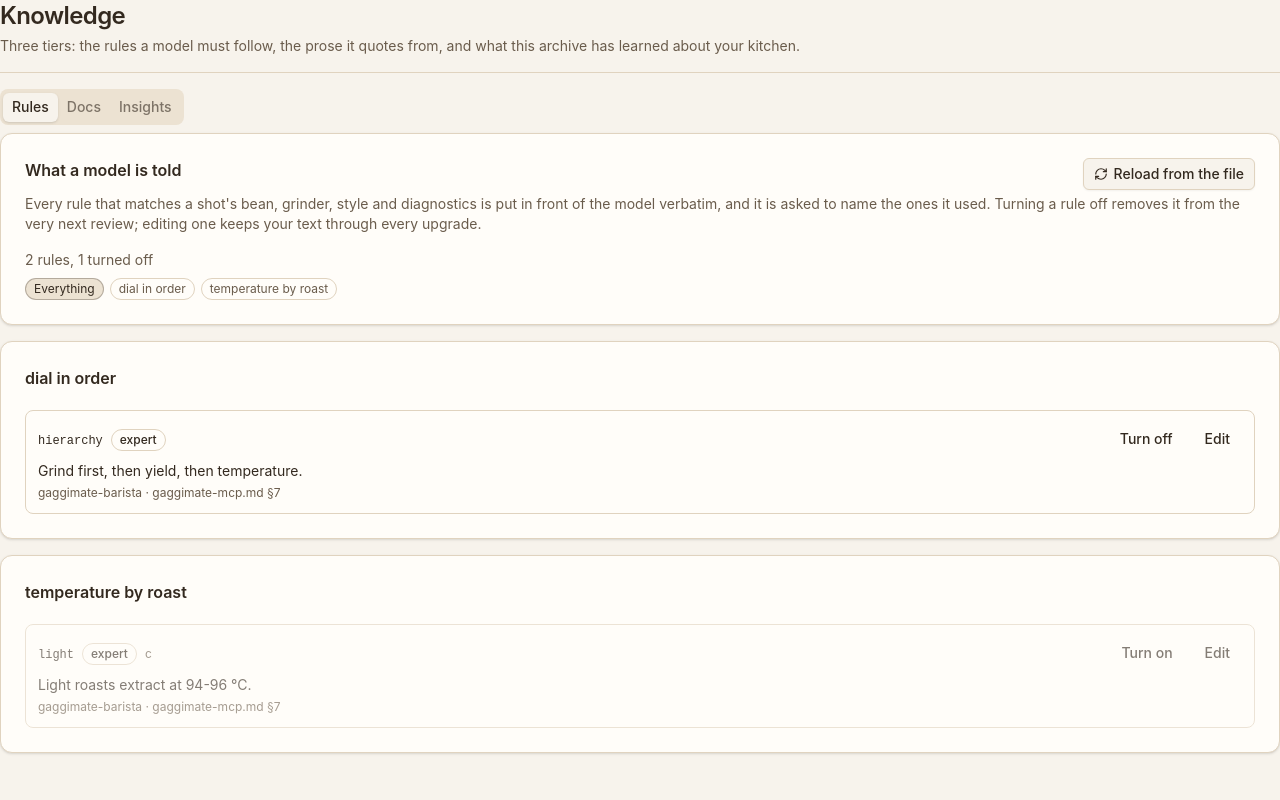
Test: KnowledgePage — the three tiers › switches to the insights
Step 1. Click the tab "Insights" → (145, 107), box [110,92,181,122]
(page scrolled)
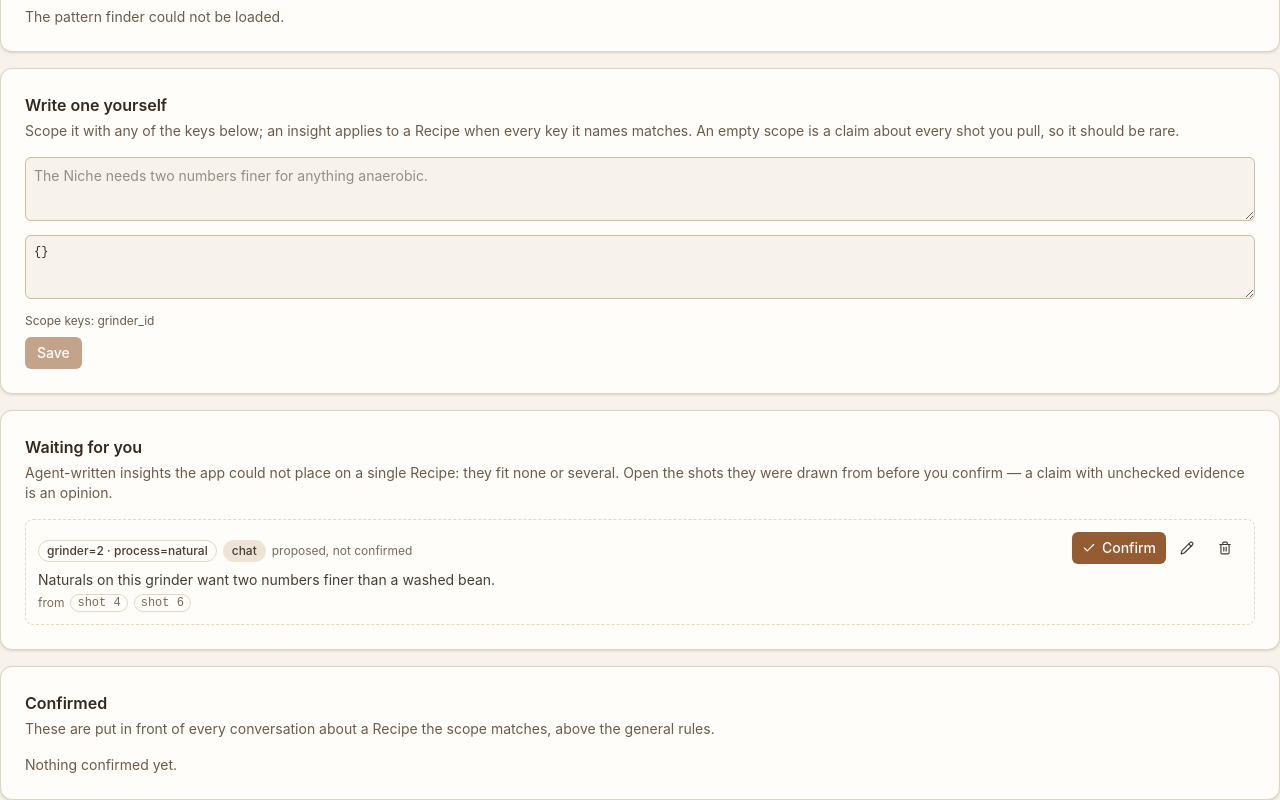
Result: the list with test id "proposed-insights" is shown at [25,519,1255,625]
